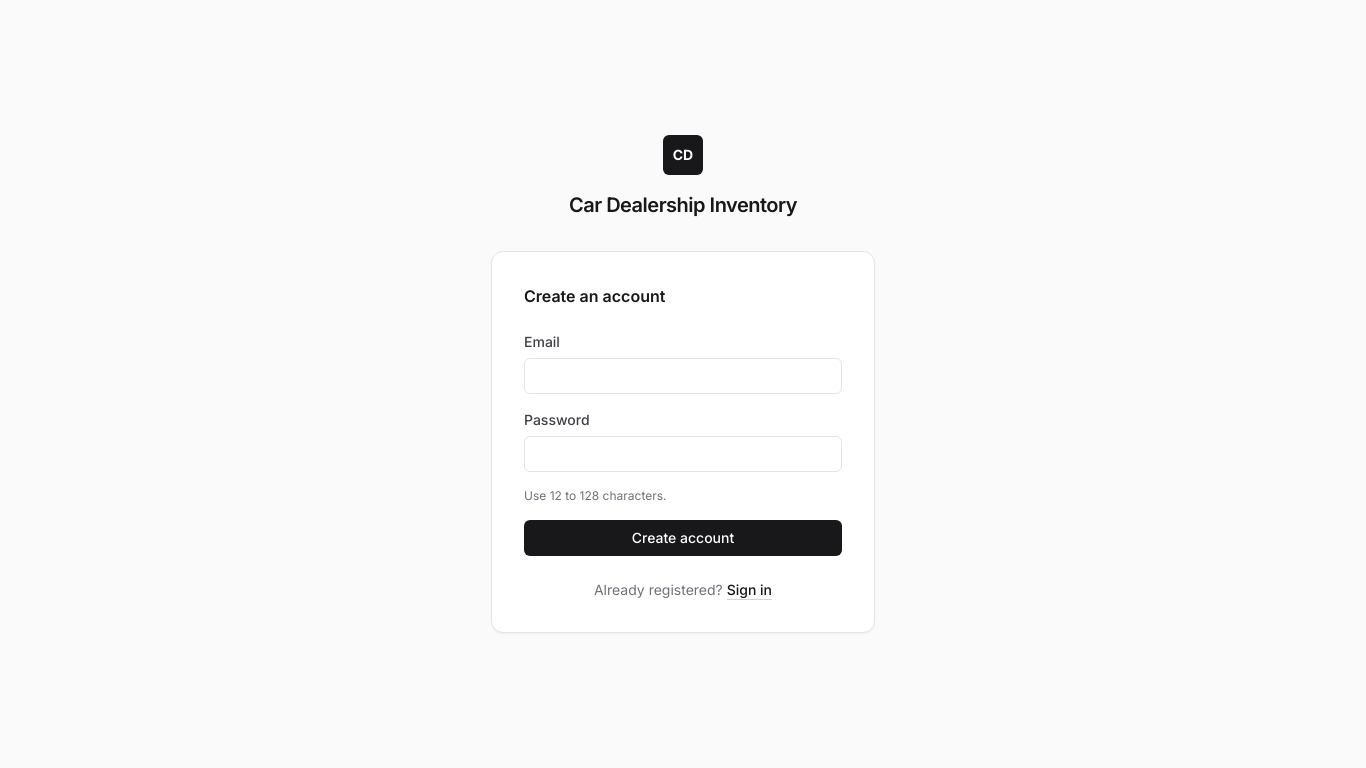
Test: Registration › creates the account and signs straight in
The width and height of the screenshot is (1366, 768).
Type "buyer@example.com" into the field labelled "Email".
click(683, 376); type("buyer@example.com")  # box [524, 358, 842, 394]
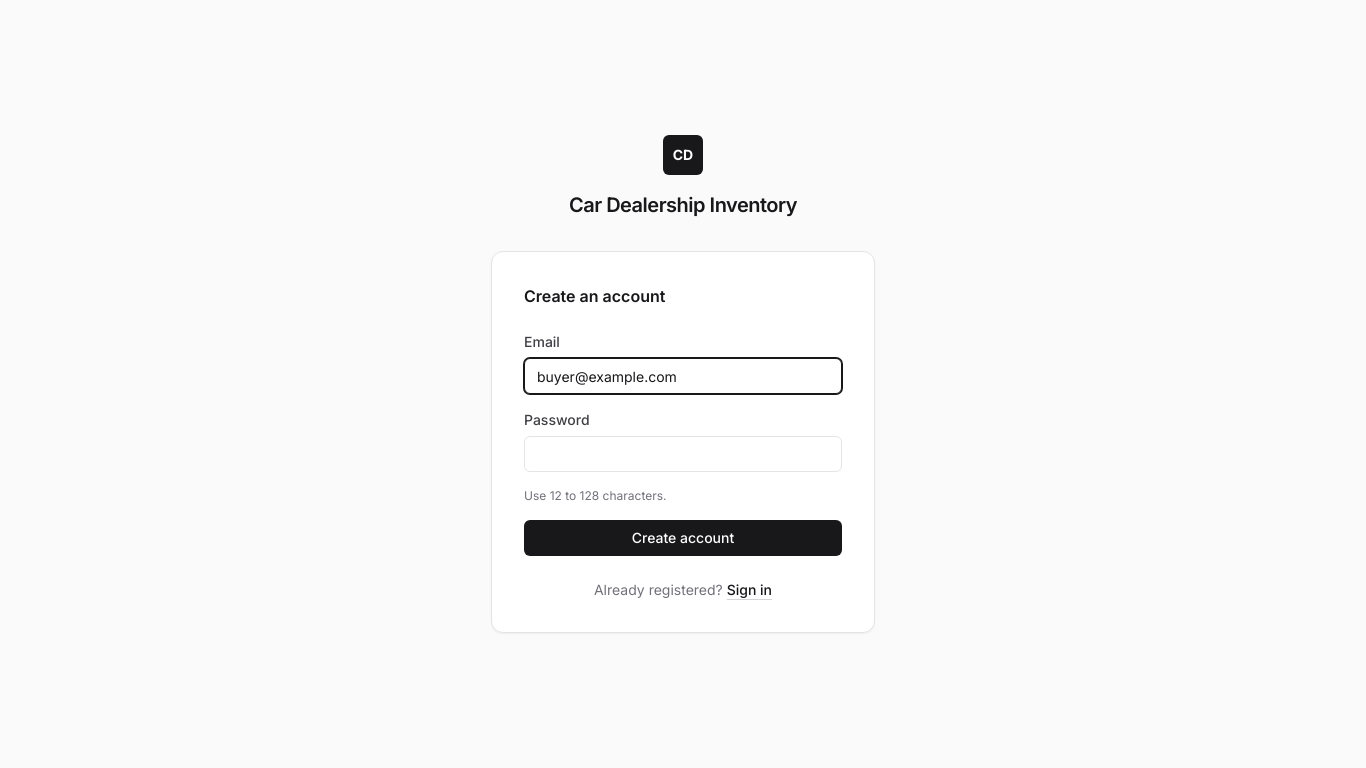
Type "valid-password" into the password field labelled "Password".
click(683, 454); type("valid-password")  # box [524, 436, 842, 472]
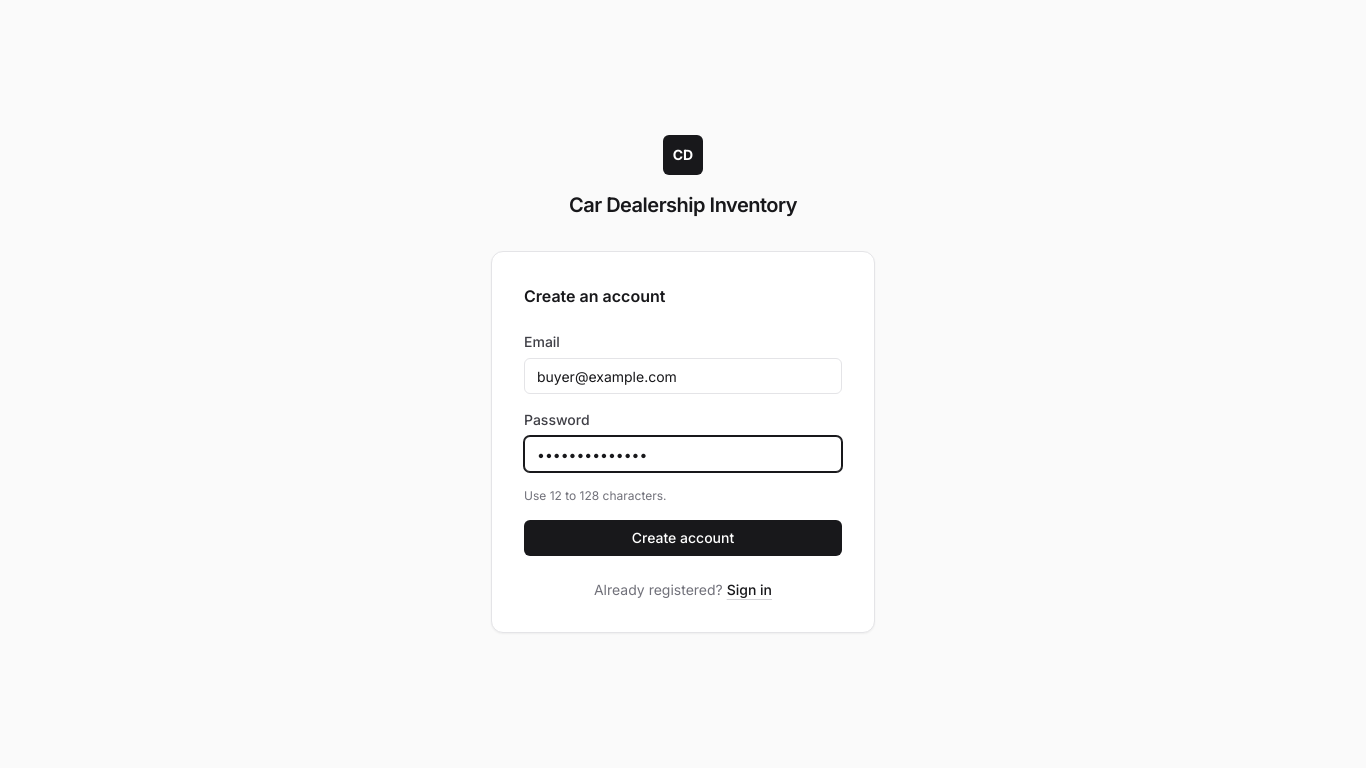
Click the button "Create account".
click(683, 538)  # box [524, 520, 842, 556]
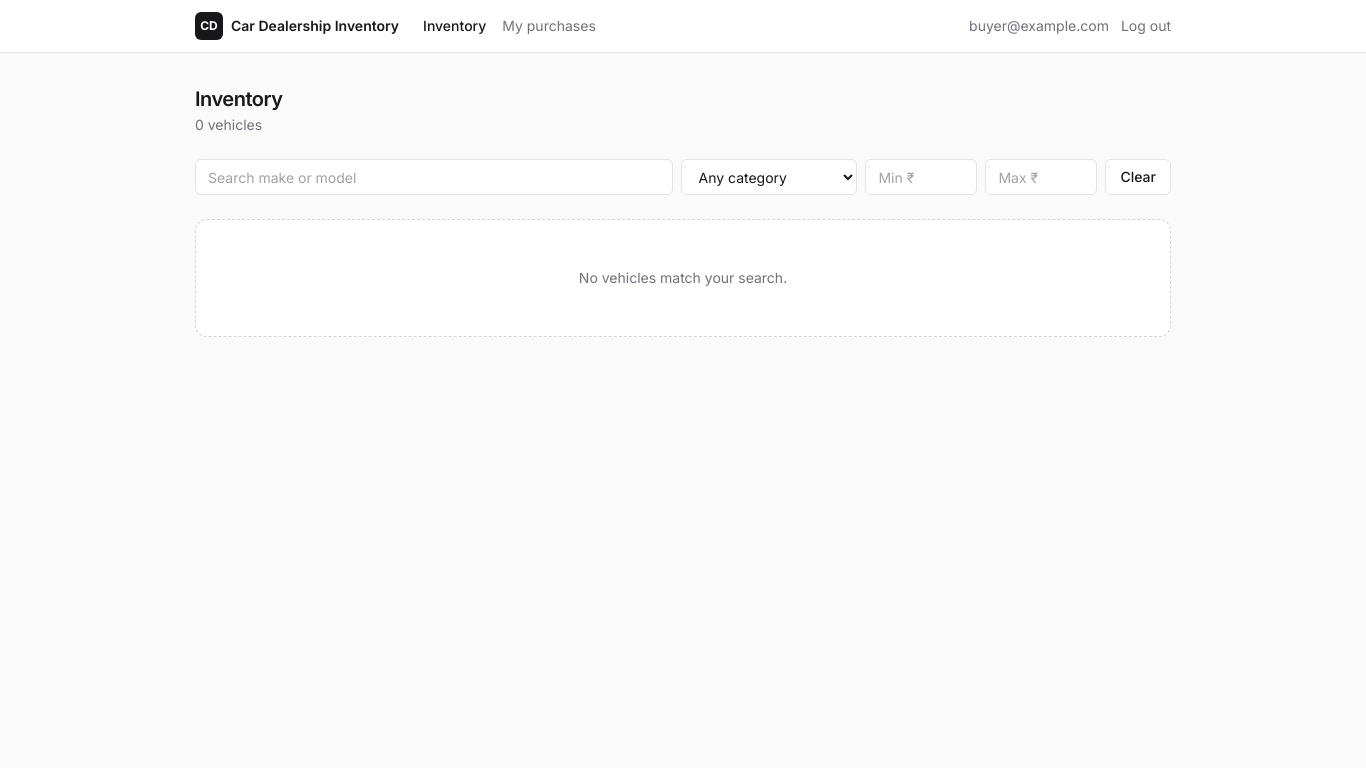
Expected: the text "buyer@example.com" is shown, [969, 16, 1109, 36]
Expected: the button "Log out" is shown, [1121, 16, 1171, 36]
